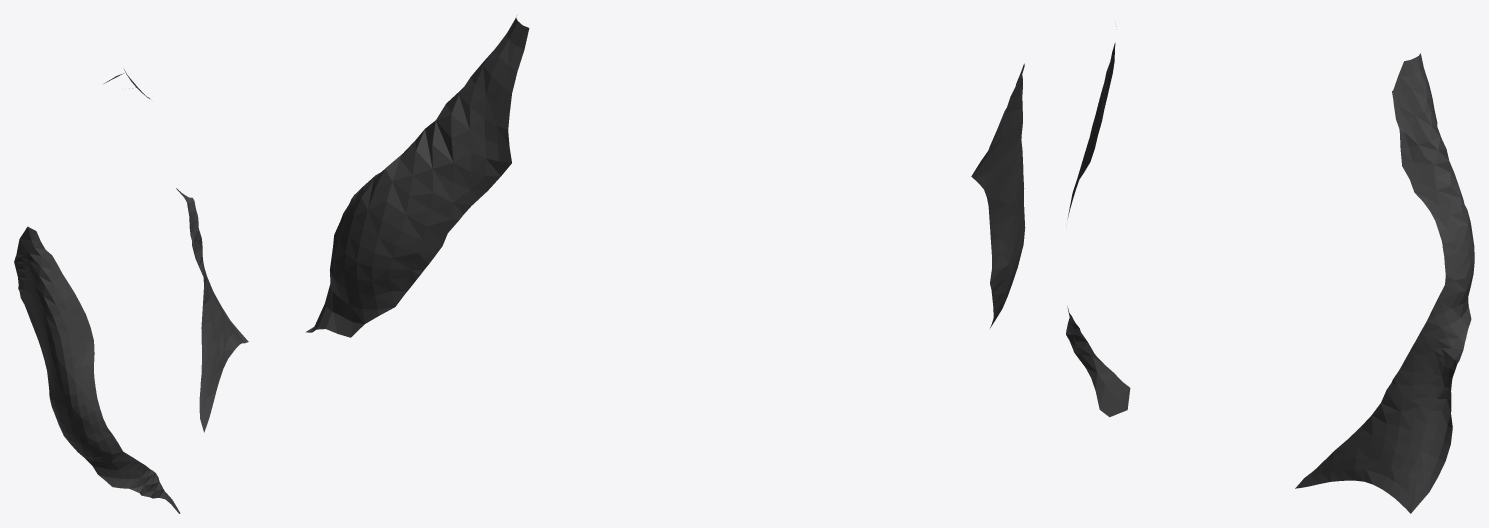
The model's file is eq_dist_limb_Collatelar_Lig_Navicular.glb.
3 views of the same model, side by side, from view 1: azimuth 30°, elevation 25°; view 2: azimuth 150°, elevation 25°; view 3: azimuth 270°, elevation 25° (orthographic). The views are drawn at different scales.
Visible parts, largest first — view 1: eq_dist_limb_Collatelar_Lig_Navicular; view 2: eq_dist_limb_Collatelar_Lig_Navicular; view 3: eq_dist_limb_Collatelar_Lig_Navicular.
Boxes of the visible parts, left/top/right/bottom form: eq_dist_limb_Collatelar_Lig_Navicular: left=14, top=69, right=248, bottom=513; eq_dist_limb_Collatelar_Lig_Navicular: left=305, top=17, right=1025, bottom=337; eq_dist_limb_Collatelar_Lig_Navicular: left=1066, top=26, right=1474, bottom=513.
Size of the model in its own units: 0.0076 by 0.00769 by 0.00718.
Materials: 1 (1 with a texture image).
